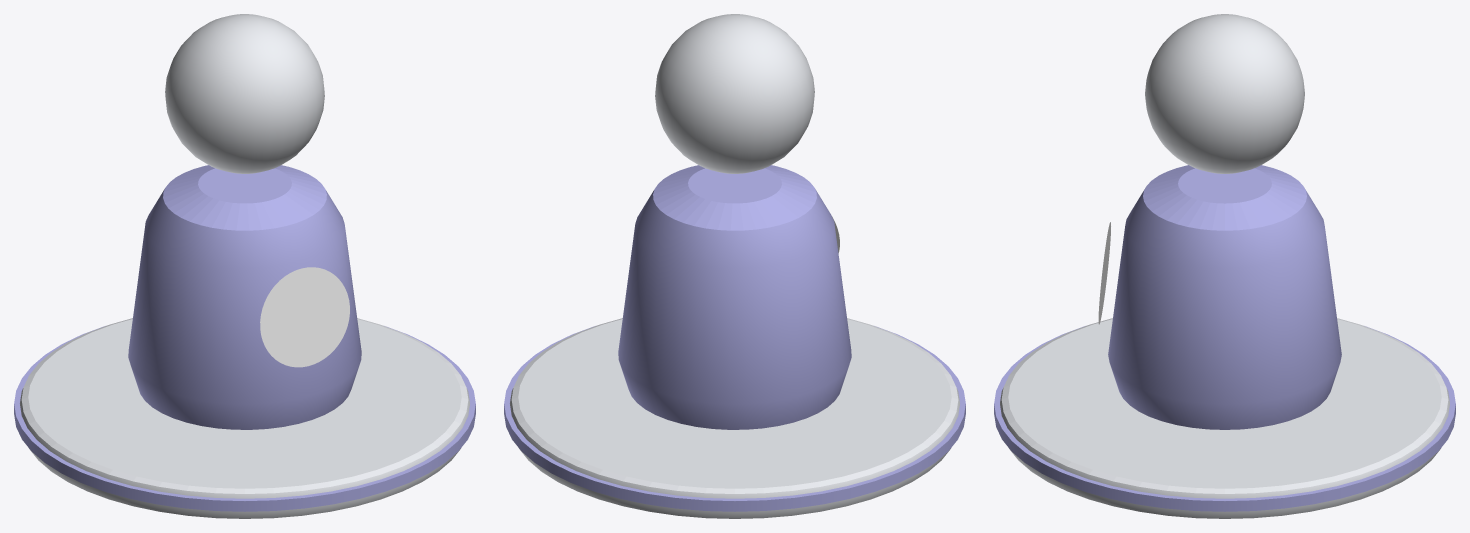
Rendered from actor.glb.
3 views of the same model, side by side, from view 1: azimuth 30°, elevation 25°; view 2: azimuth 150°, elevation 25°; view 3: azimuth 270°, elevation 25° (orthographic).
Parts seen in each view (by area): view 1: ac_base, ac_torso, ac_head, ac_ring, ac_logo; view 2: ac_torso, ac_base, ac_head, ac_ring; view 3: ac_torso, ac_base, ac_head, ac_ring.
Part boxes in pixels (<box>): ac_base: <box>20,318,469,518</box>; ac_torso: <box>128,165,361,429</box>; ac_head: <box>165,14,324,173</box>; ac_ring: <box>14,326,475,511</box>; ac_logo: <box>260,267,349,367</box>; ac_torso: <box>618,165,851,429</box>; ac_base: <box>510,318,959,518</box>; ac_head: <box>655,14,814,173</box>; ac_ring: <box>504,326,965,511</box>; ac_torso: <box>1108,165,1341,429</box>; ac_base: <box>1000,318,1449,518</box>; ac_head: <box>1145,14,1304,173</box>; ac_ring: <box>994,326,1455,511</box>.
Bounding box in the file's own units: 0.98 × 0.95 × 0.98.
